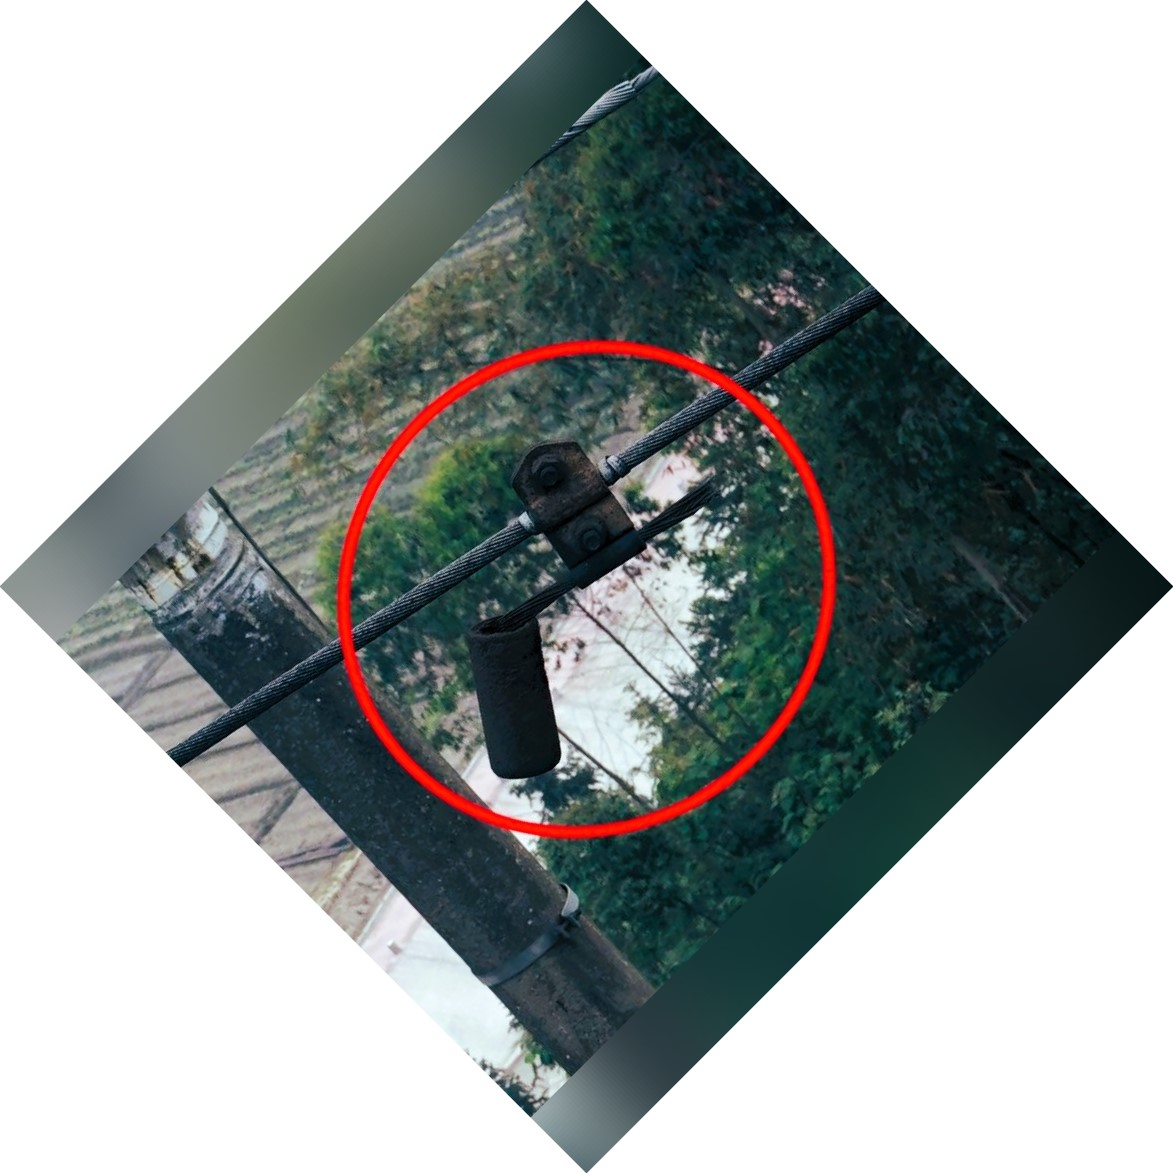Damage of shockproof hammer: (412, 416, 736, 794)
